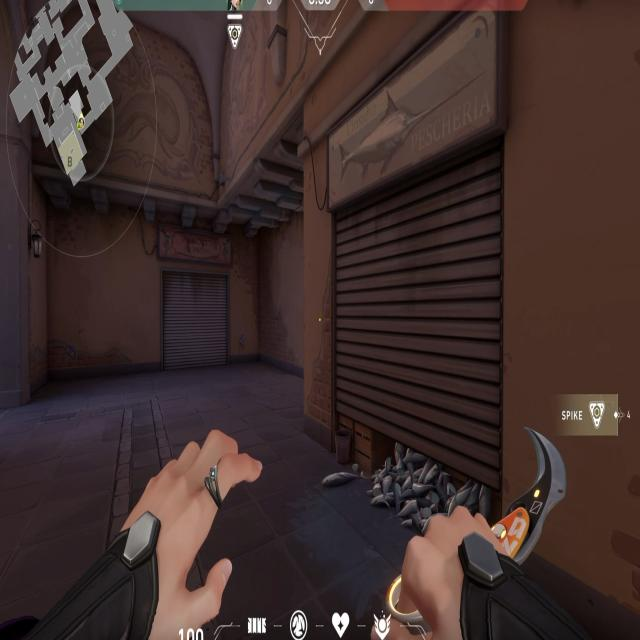B_Main_Corner: (290, 8, 550, 560)
